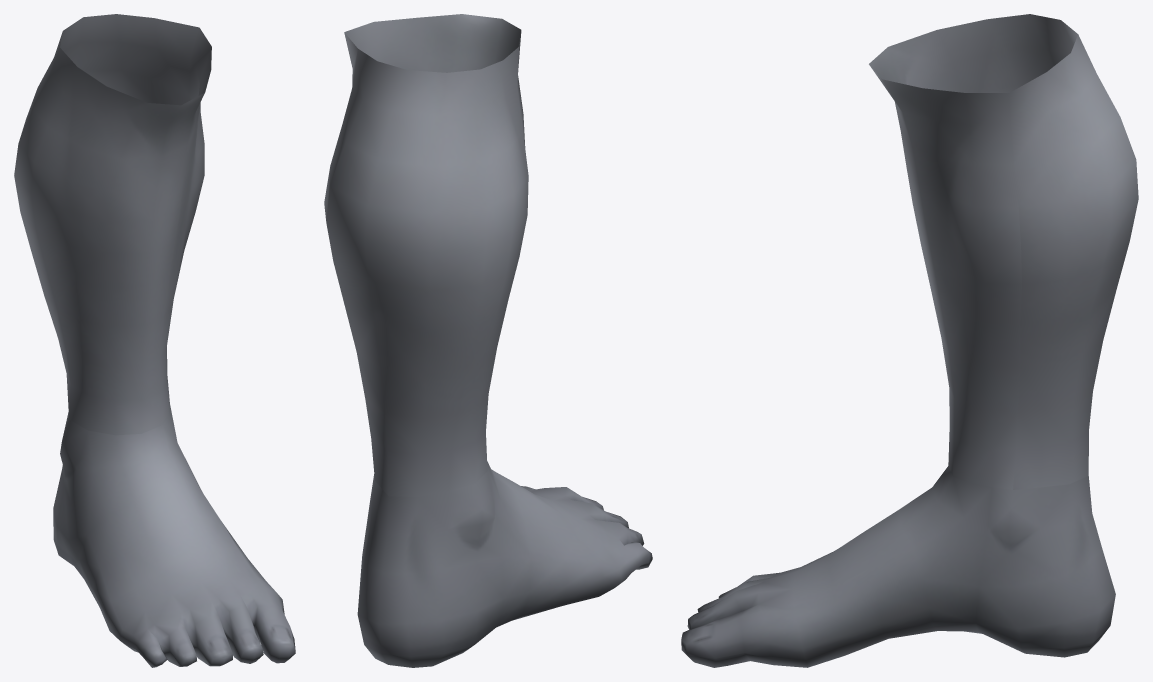
File: Bote_PantorrillaDer.obj
3 renders of one model, left to right at view 1: azimuth 30°, elevation 25°; view 2: azimuth 150°, elevation 25°; view 3: azimuth 270°, elevation 25°, orthographic. The views are drawn at different scales.
Visible parts, largest first — view 1: Object003; view 2: Object003; view 3: Object003.
Part boxes in pixels (x1,y1,x2,y2): Object003: (14,14,295,667); Object003: (324,14,652,667); Object003: (681,14,1138,667).
Bounding box in the file's own units: 0.5004 × 1.55 × 1.05.
